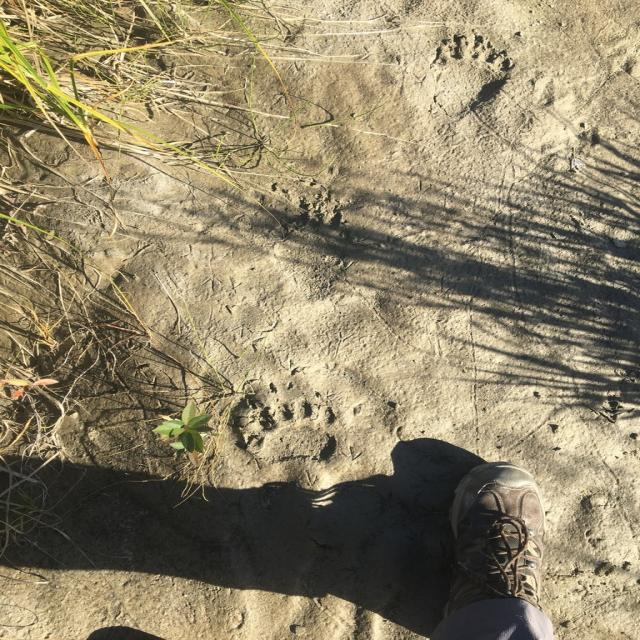bear: (262, 200, 348, 279), (433, 35, 512, 111), (246, 402, 336, 462)
